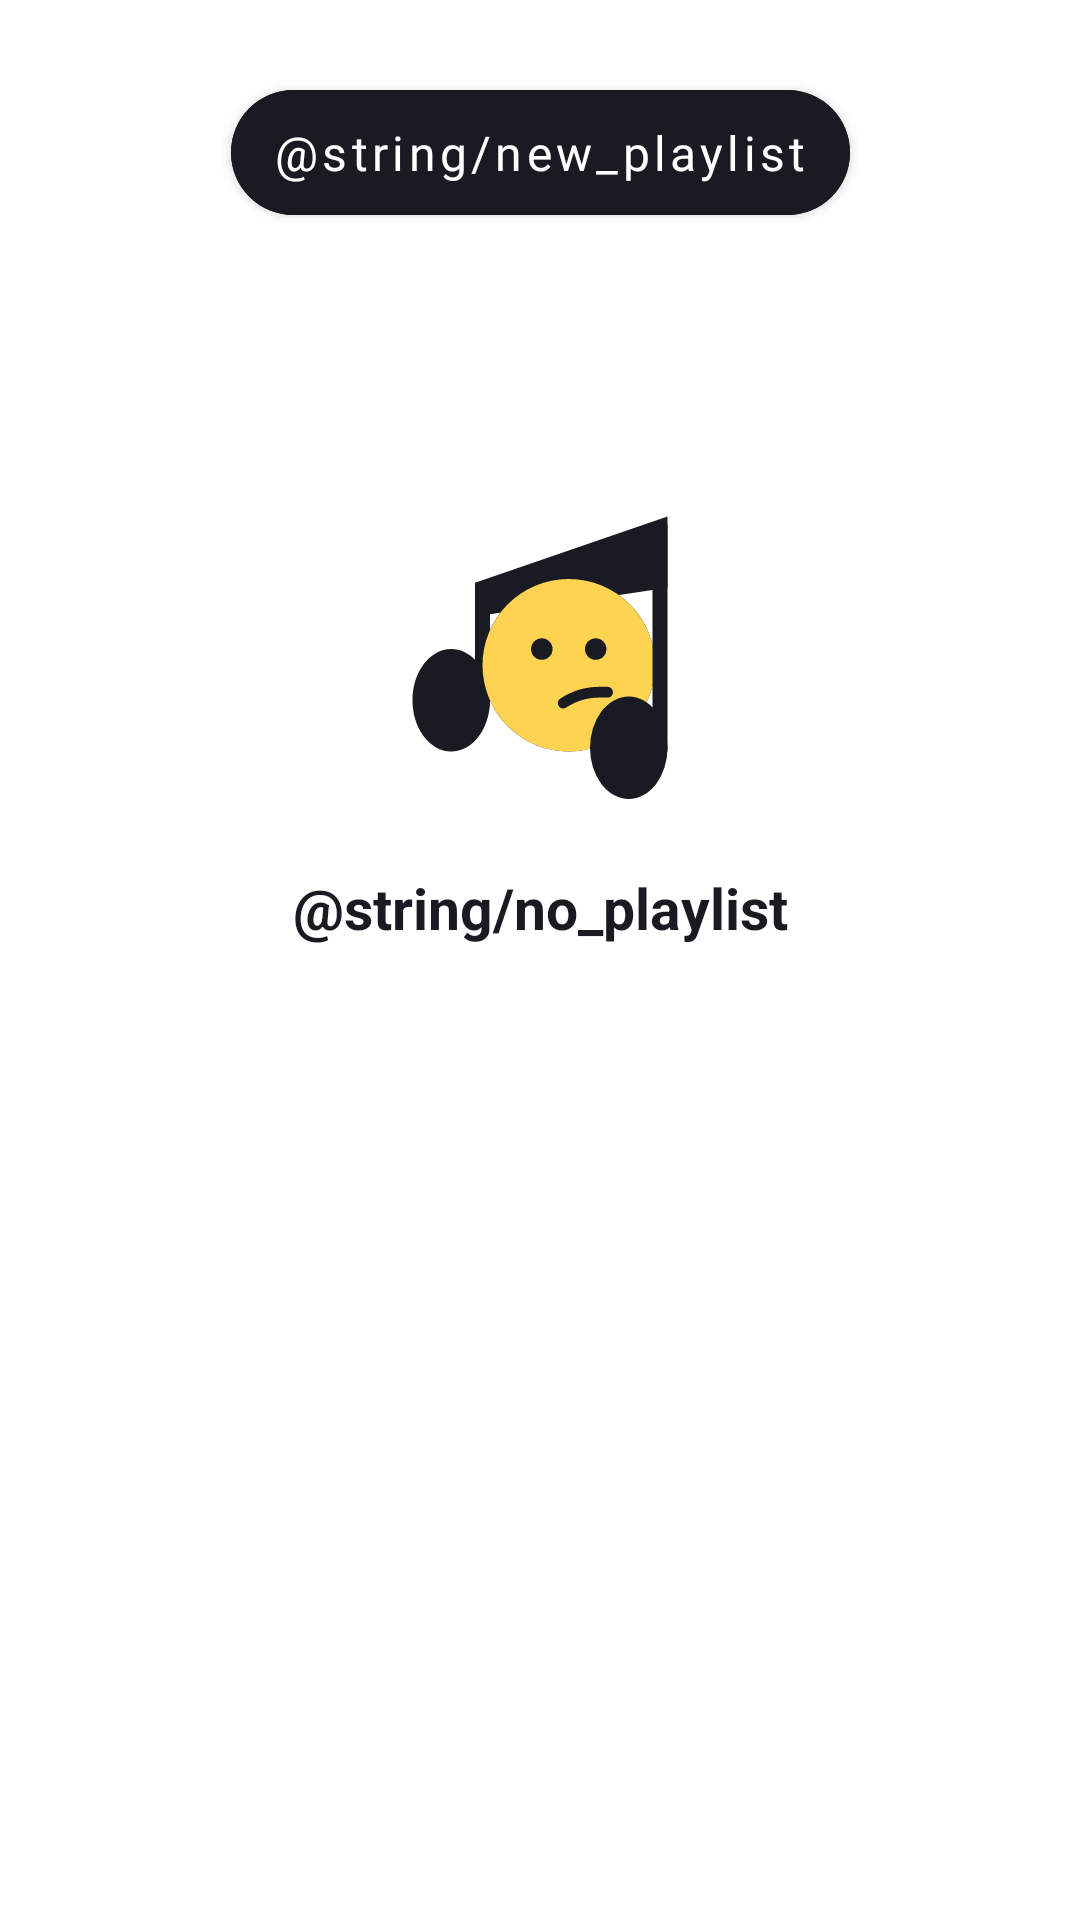

Locate icon controls on the screen. Image size 1080×1920, boxes as (x1, y1, x2, y2).
not found: (412, 516, 668, 799)
